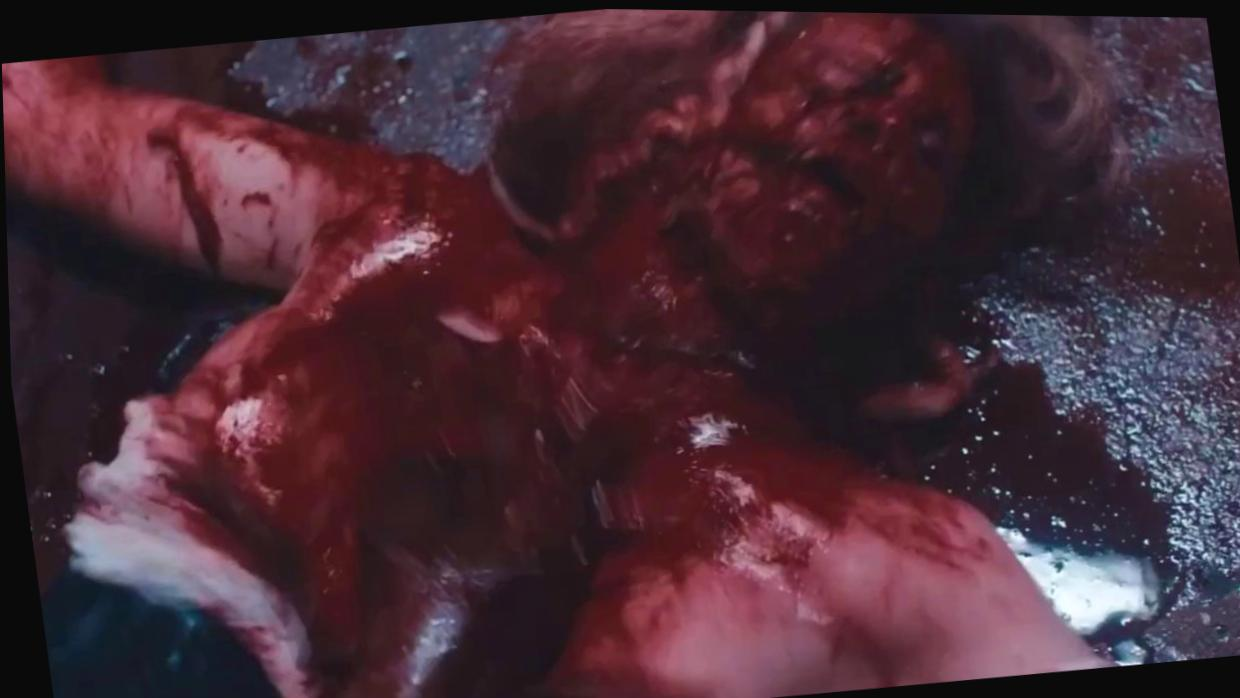Fire: (1, 9, 1240, 698)
